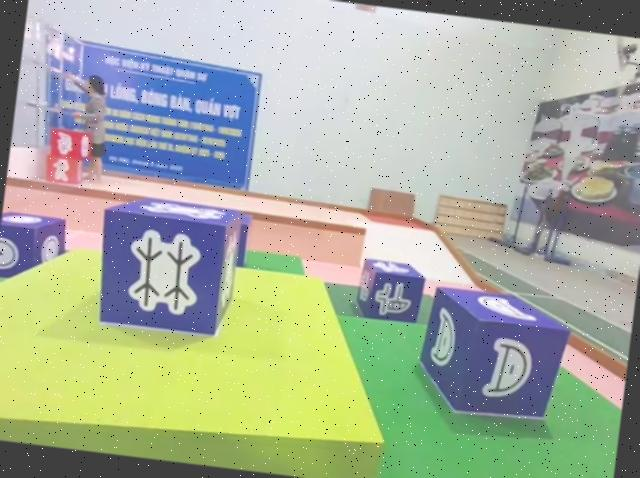R2 Real Blue: (92, 193, 248, 342), (413, 284, 570, 427), (350, 256, 424, 325), (0, 210, 66, 284)
